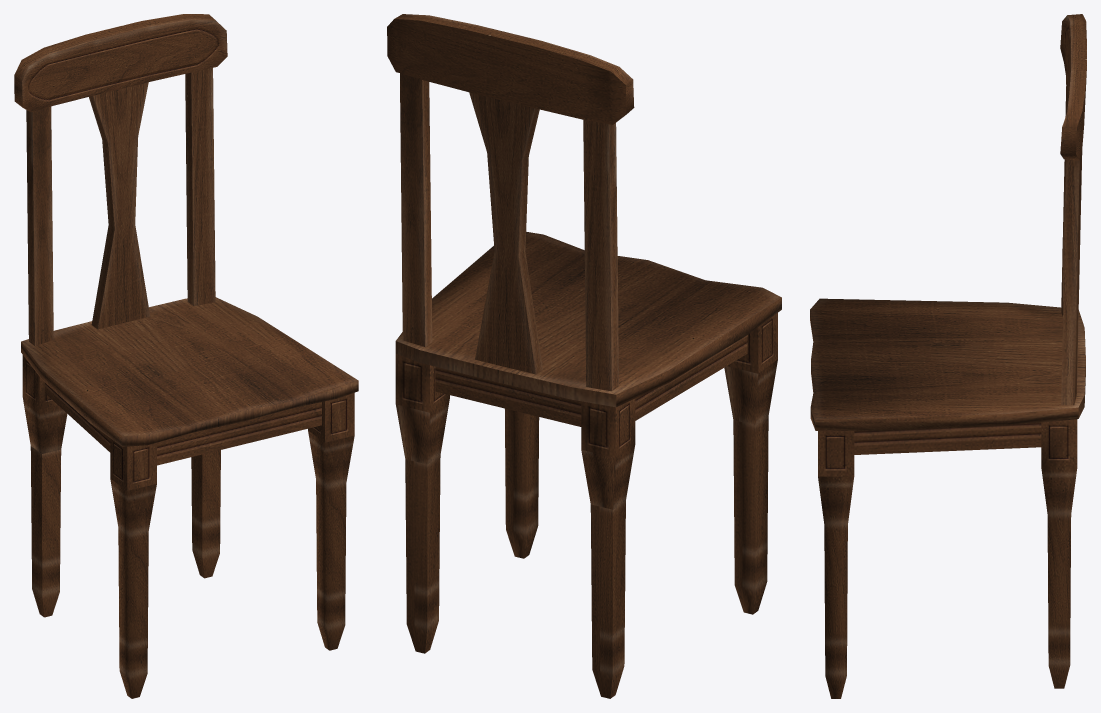
File: chairwood.fbx
3 renders of one model, left to right at view 1: azimuth 30°, elevation 25°; view 2: azimuth 150°, elevation 25°; view 3: azimuth 270°, elevation 25°, orthographic. The views are drawn at different scales.
Parts seen in each view (by area): view 1: chairwood; view 2: chairwood; view 3: chairwood.
Part boxes in pixels (x1,y1,x2,y2): chairwood: (14,14,358,698); chairwood: (387,14,781,698); chairwood: (810,14,1086,698).
Bounding box in the file's own units: 16.84 × 38.27 × 16.25.
